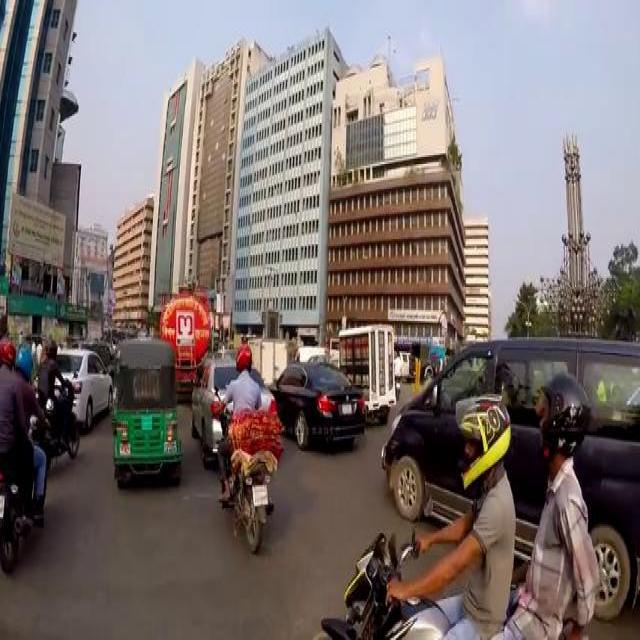car: (190, 355, 276, 453), (274, 358, 364, 447), (54, 344, 112, 421)
minivan: (384, 337, 638, 620)
motorbike: (320, 526, 420, 636), (211, 380, 273, 549), (0, 391, 52, 566), (30, 379, 80, 457)
pickup: (248, 336, 286, 382)
three wheelers -CNG-: (111, 335, 181, 473)
truck: (157, 287, 209, 392)
